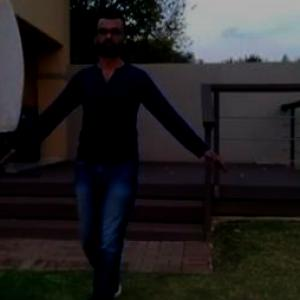land: (25, 20, 222, 298)
